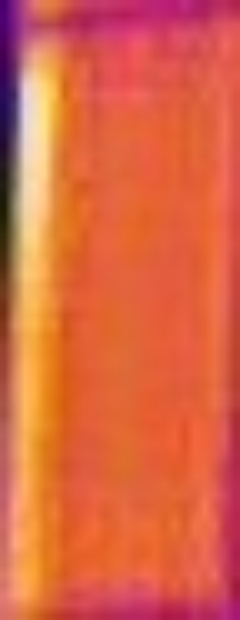Diode: (1, 33, 72, 605)
